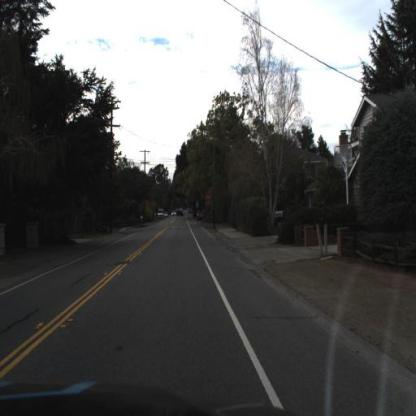car: (198, 211, 206, 223), (164, 213, 169, 219), (173, 212, 177, 217)
truck: (178, 210, 187, 218), (159, 211, 165, 221)
